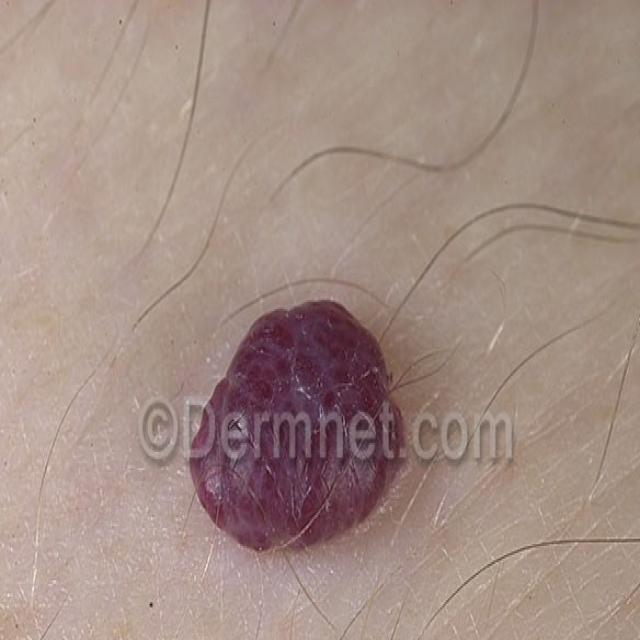Vascular Tumors: (181, 274, 428, 577)
